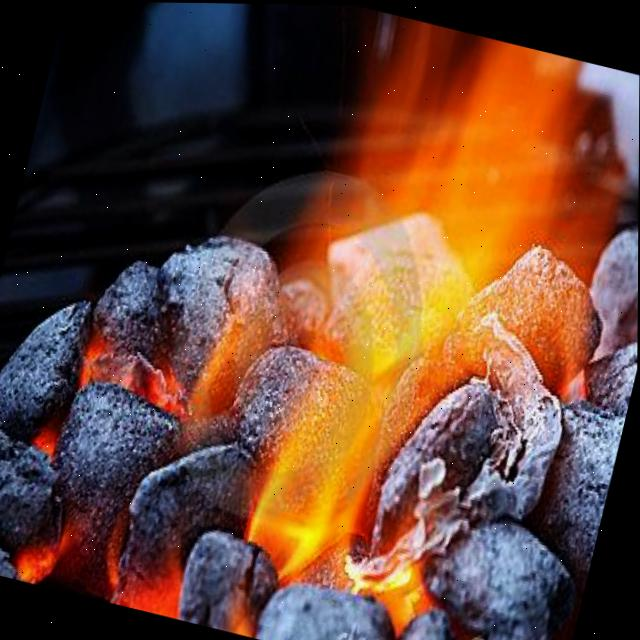fire: (0, 14, 624, 630)
